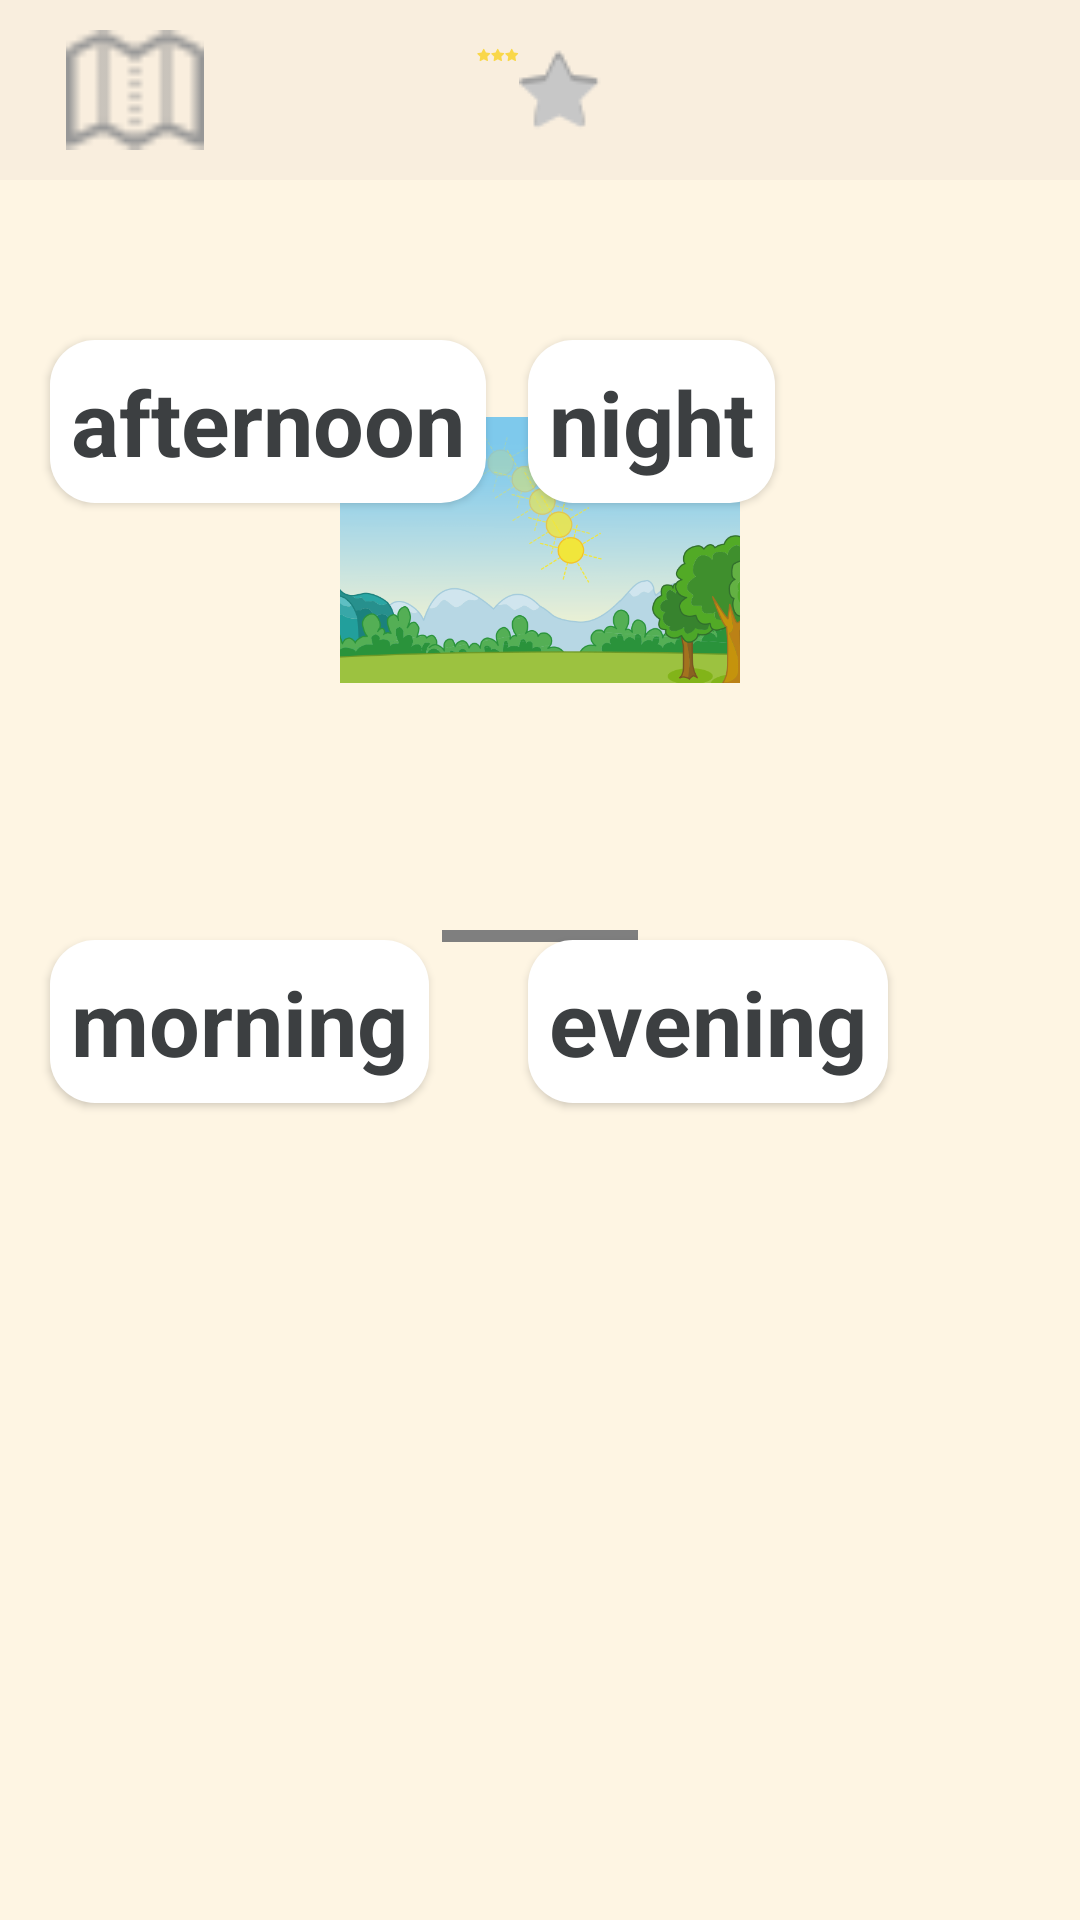

Named icons in this screenshot (1080x1920) and their bounding boxes, (x1, y1, x2, y2):
huixing: (519, 51, 598, 126)
shu: (66, 30, 204, 150)
